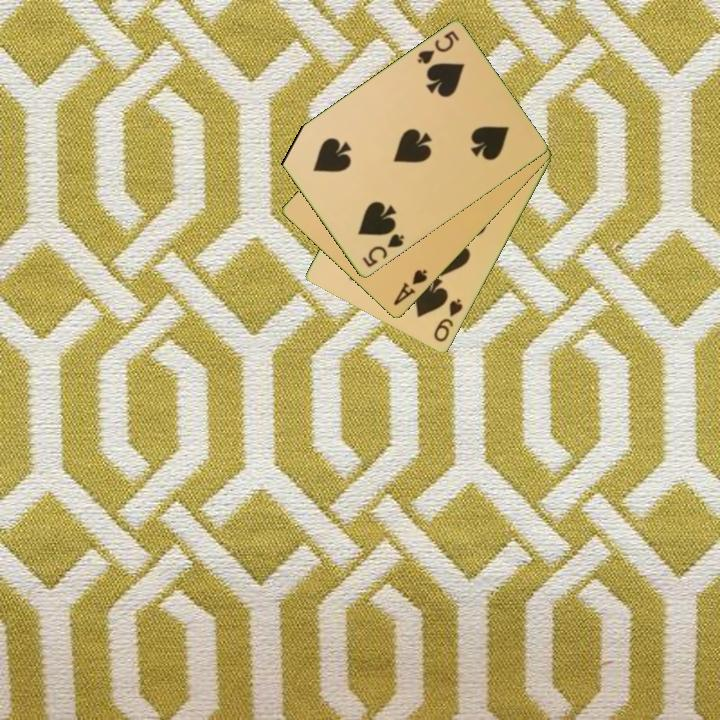5s: (413, 27, 462, 68), (359, 230, 407, 271)
9s: (430, 295, 466, 346)
As: (390, 266, 430, 309)
